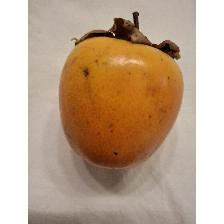Kaki: (55, 8, 187, 176)
